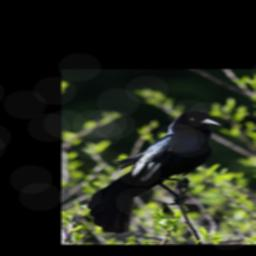Crow: (88, 109, 222, 233)
